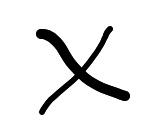mult: (35, 26, 131, 114)
